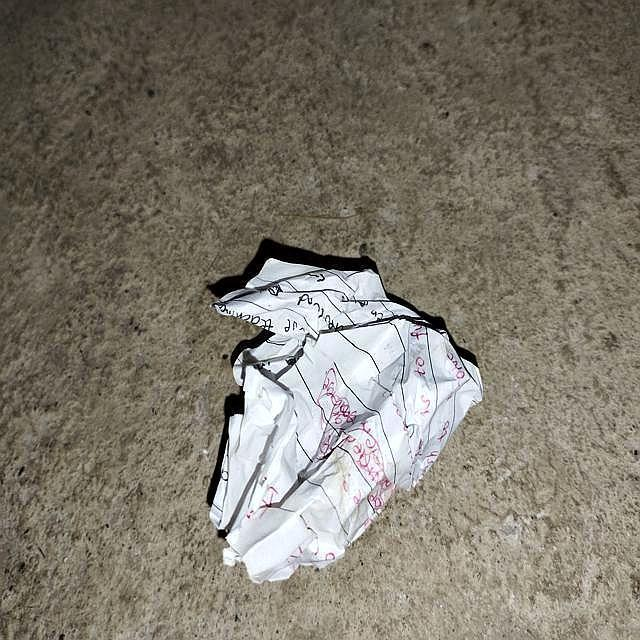Biodegradable: (213, 259, 485, 585)
